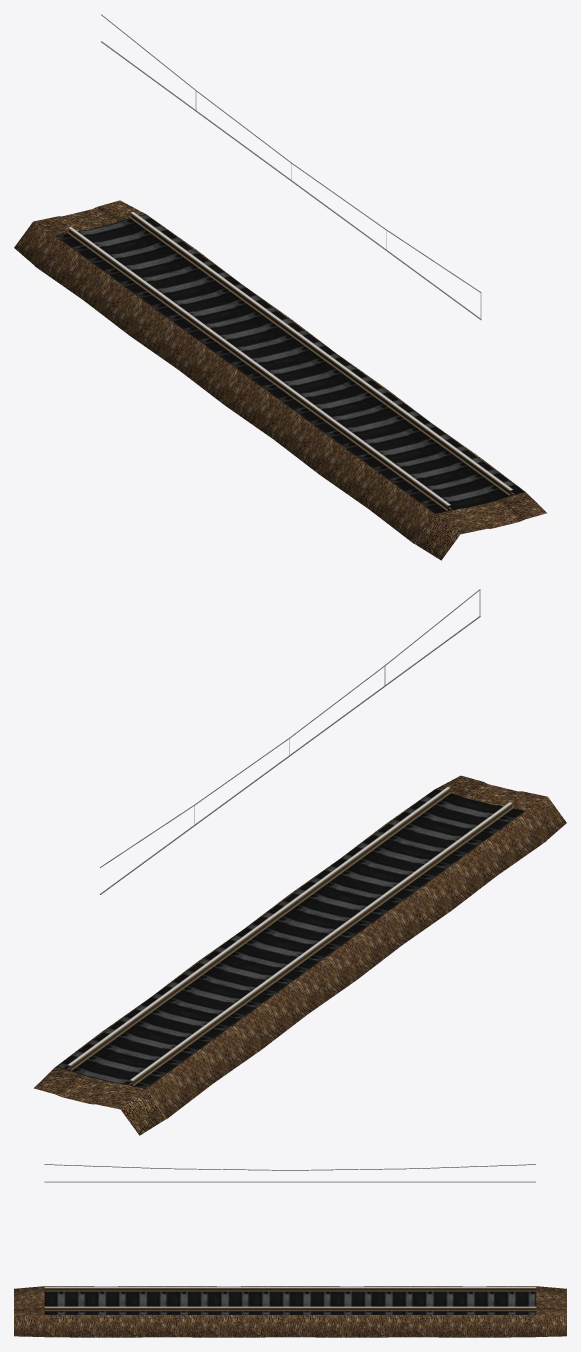
Rendered from AMB_HQ_1RAIL50.glb.
3 views of the same model, one above another, from view 1: azimuth 30°, elevation 25°; view 2: azimuth 150°, elevation 25°; view 3: azimuth 270°, elevation 25° (orthographic). The views are drawn at different scales.
Parts seen in each view (by area): view 1: Mesh1; view 2: Mesh1; view 3: Mesh1.
Boxes of the visible parts, x1,y1,x2,y2 form: Mesh1: (14, 14, 546, 560); Mesh1: (34, 589, 566, 1135); Mesh1: (14, 1164, 566, 1337).
Bounding box in the file's own units: 10.12 × 17.11 × 56.25.
6 materials, 4 textured.
